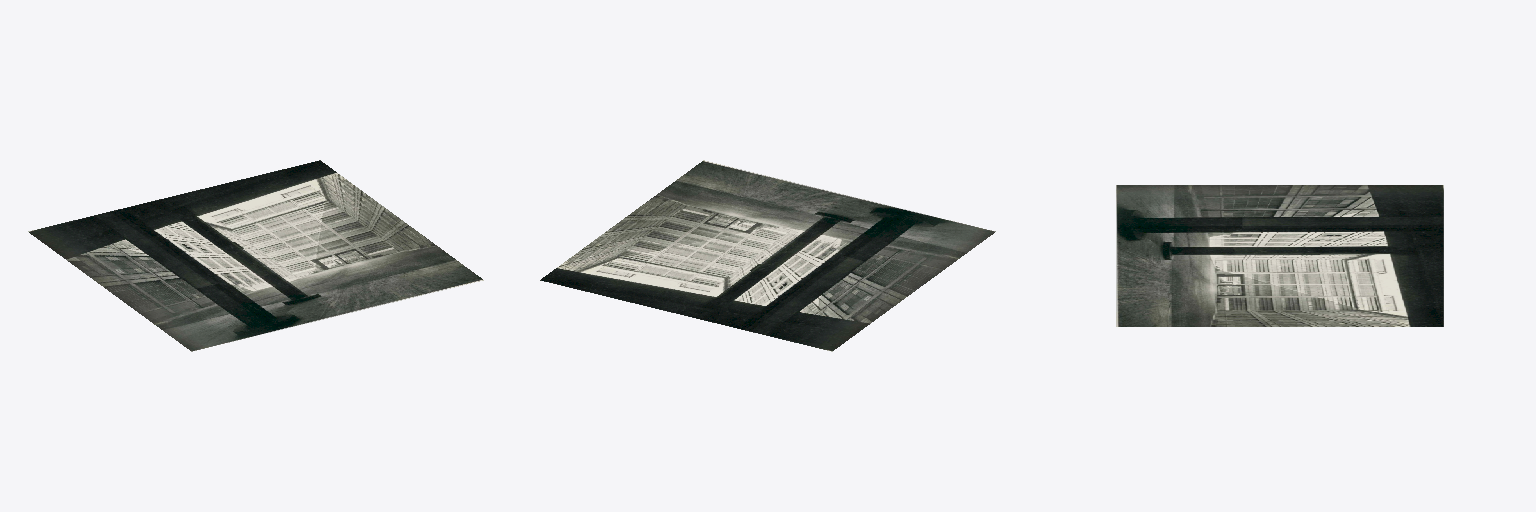
The picture shows the model from 3 angles: view 1: azimuth 30°, elevation 25°; view 2: azimuth 150°, elevation 25°; view 3: azimuth 270°, elevation 25°; orthographic projection.
Parts seen in each view (by area): view 1: Plane002; view 2: Plane002; view 3: Plane002.
Boxes of the visible parts, box(x1,y1,x2,y2) form: Plane002: box(28, 160, 483, 351); Plane002: box(540, 160, 995, 351); Plane002: box(1116, 185, 1443, 326).
Bounding box in the file's own units: 1.35 × 0 × 1.31.
Materials: 1 (1 with a texture image).